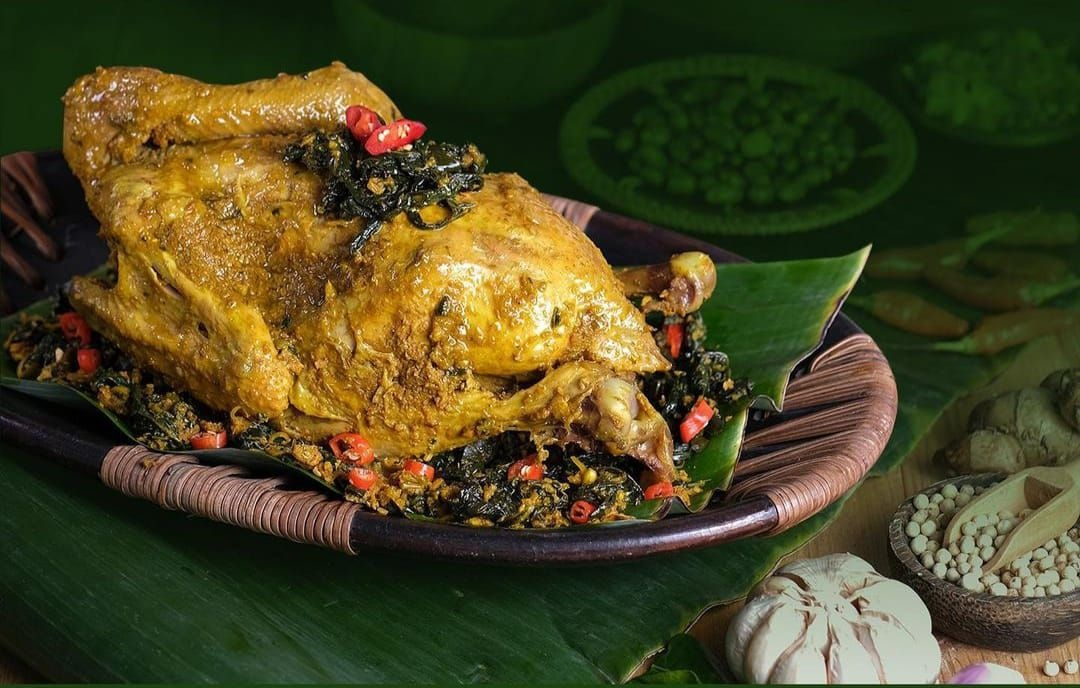ayam_betutu: (62, 60, 715, 447)
